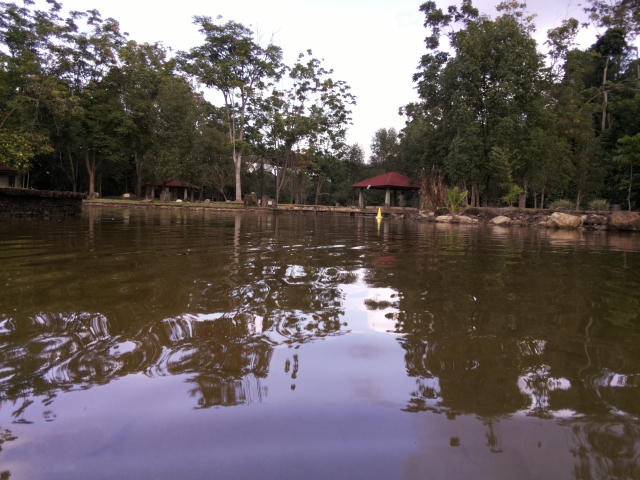checkpoint: (374, 208, 384, 222)
